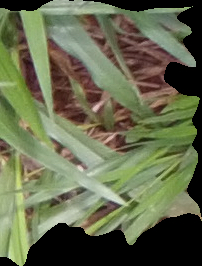grass: (1, 1, 201, 265)
